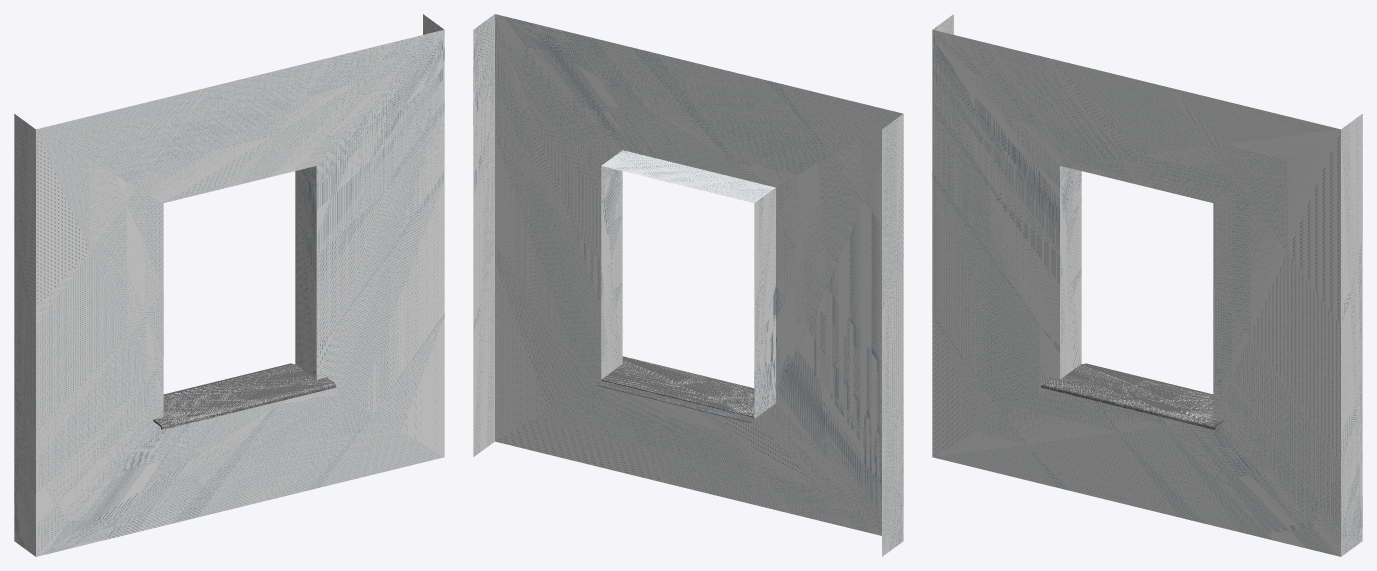
The model's file is WindowBlock_os_[400x400]_150x200x[100].dae.
3 renders of one model, left to right at view 1: azimuth 30°, elevation 25°; view 2: azimuth 150°, elevation 25°; view 3: azimuth 330°, elevation 25°, orthographic.
Parts seen in each view (by area): view 1: group_1 (×2), group_2; view 2: group_1 (×2), group_2 (×2); view 3: group_1 (×2), group_2.
Part boxes in pixels (box(x1,y1,x2,y2)): group_1 (×2): box(14, 14, 444, 556); group_2: box(153, 364, 335, 429); group_1 (×2): box(473, 14, 903, 556); group_2 (×2): box(597, 356, 754, 422); group_1 (×2): box(932, 14, 1362, 556); group_2: box(1041, 364, 1222, 429).
Bounding box in the file's own units: 157 × 23.03 × 157.
